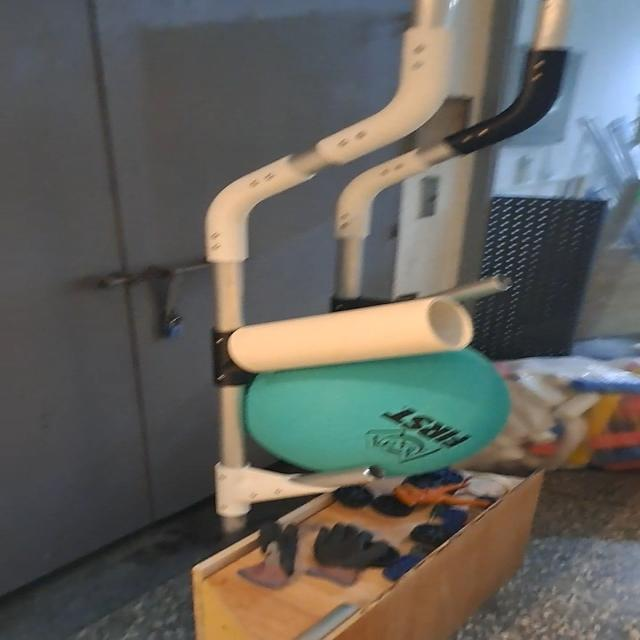ALGAE: (247, 334, 515, 483)
CORAL: (229, 296, 475, 371)
